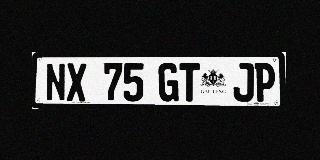5: (123, 63, 144, 101)
7: (103, 63, 123, 101)
G: (158, 63, 179, 102)
J: (233, 63, 254, 102)
N: (46, 63, 66, 101)
P: (254, 63, 275, 102)
T: (179, 63, 200, 102)
X: (66, 63, 87, 101)
